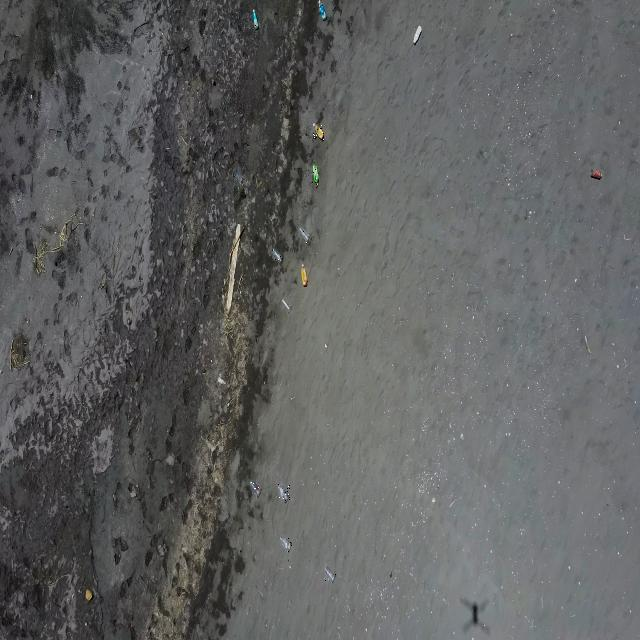plastic-bottle: (313, 124, 324, 142), (413, 25, 422, 46), (318, 0, 327, 21), (312, 165, 320, 188), (251, 8, 259, 30), (301, 264, 308, 287)
takeaway-cup: (278, 483, 290, 504), (280, 535, 292, 553), (250, 480, 262, 498), (325, 566, 336, 584), (299, 227, 310, 243), (272, 248, 283, 264), (281, 298, 292, 314)
